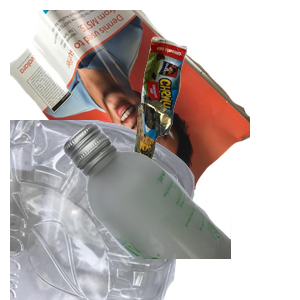glass: (60, 120, 300, 300)
paper: (10, 10, 250, 190)
plastic: (10, 120, 197, 300)
trash: (130, 34, 300, 203)
